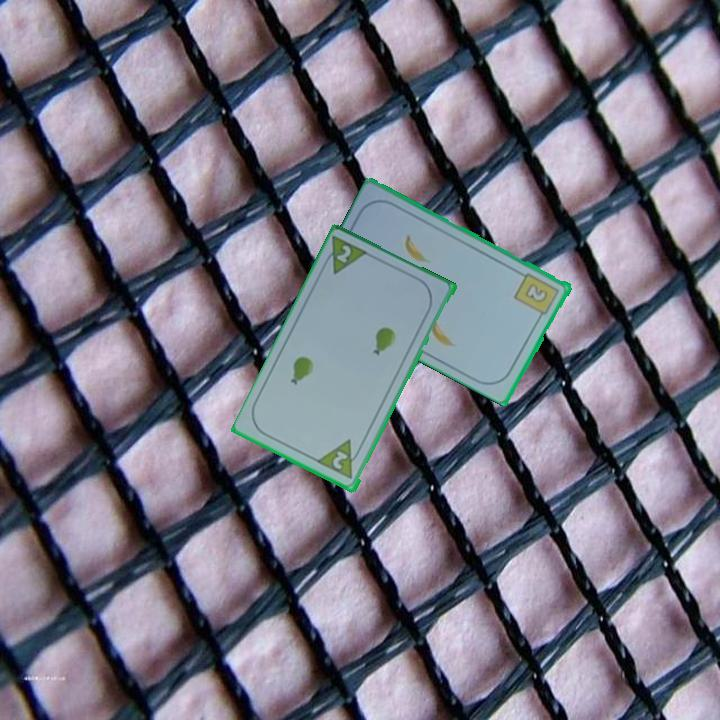2b: (511, 269, 563, 322)
2p: (315, 436, 365, 483), (333, 242, 355, 266)
